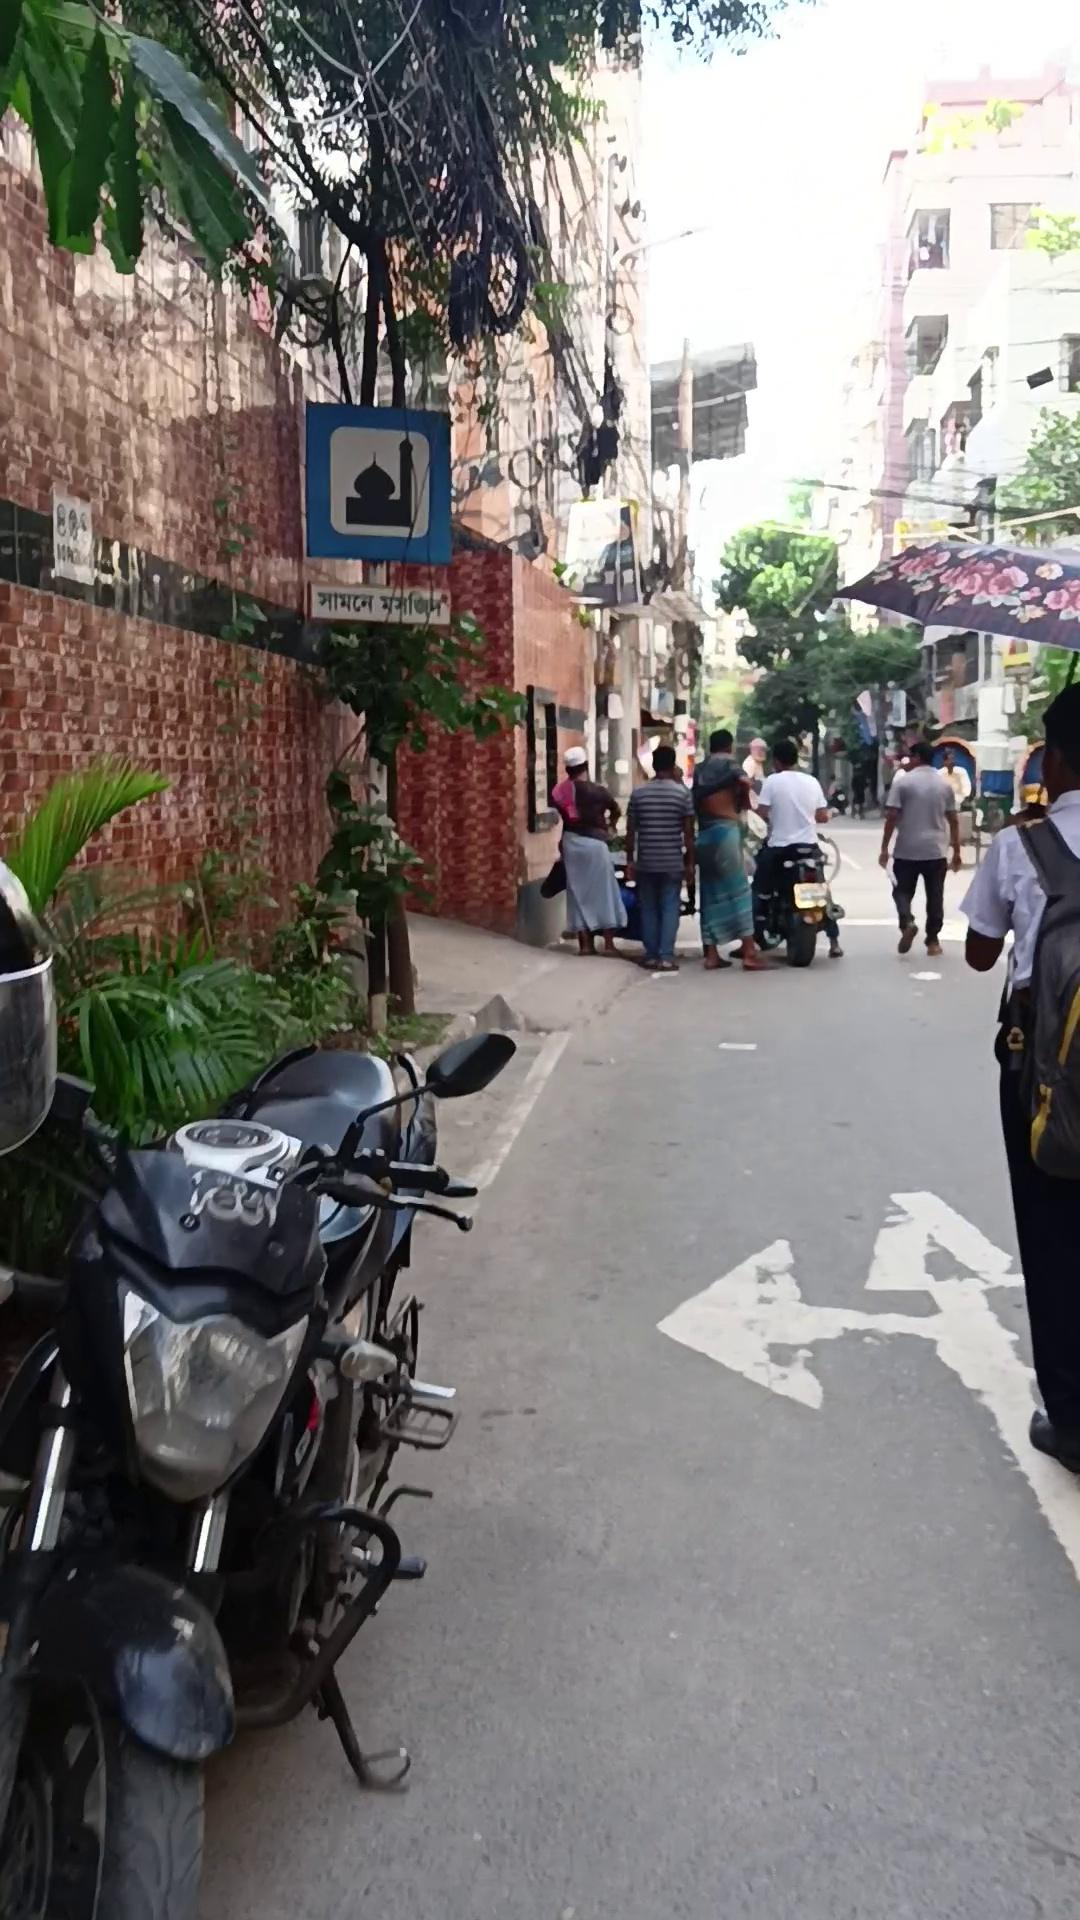Crosswalk: (400, 995, 572, 1204)
Light-pole: (1, 1027, 514, 1915), (742, 814, 845, 966)
Muddy road: (957, 681, 1079, 1473), (690, 728, 771, 971), (878, 739, 962, 955), (549, 744, 627, 955), (623, 745, 696, 970)
Stuck-water: (302, 399, 453, 566)
